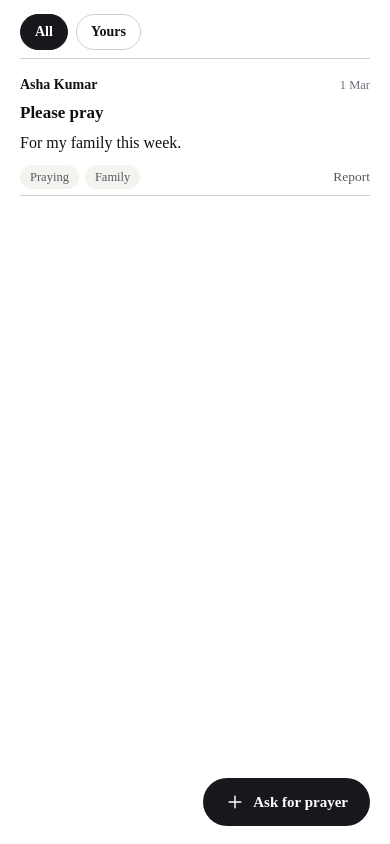
Test: asking for prayer › refuses an empty request rather than posting a blank one
Click the button with test id "prayer-wall-compose" at (287, 802), box [203,778,370,826]
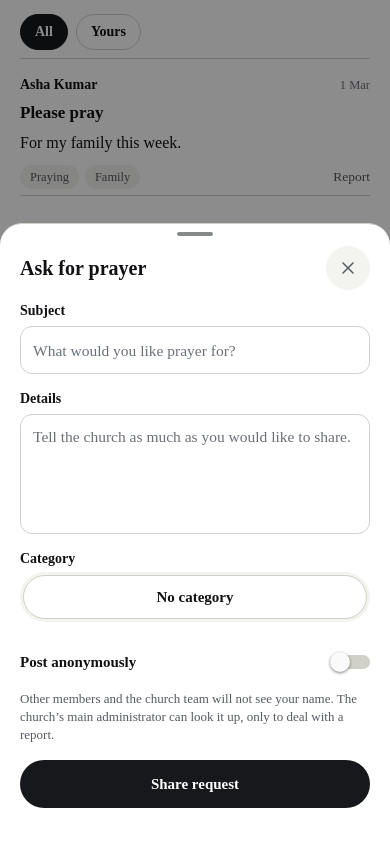
Check: the button with test id "prayer-form-submit" is shown
Click the button with test id "prayer-form-submit" at (195, 784), box [20,760,370,808]
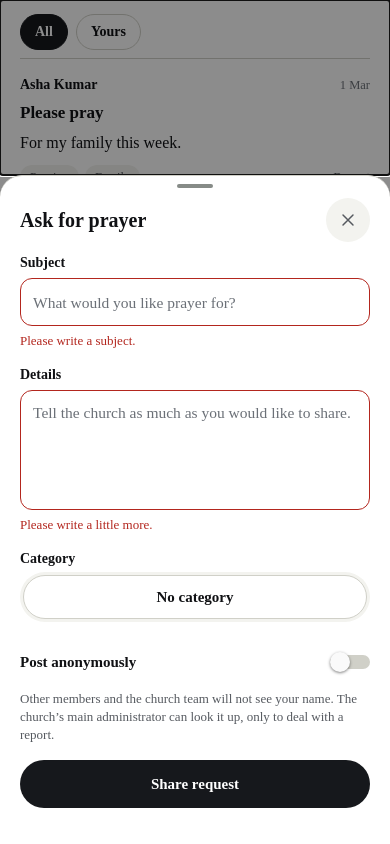
Check: the text "Please write a subject." is shown, box [20,333,136,348]
